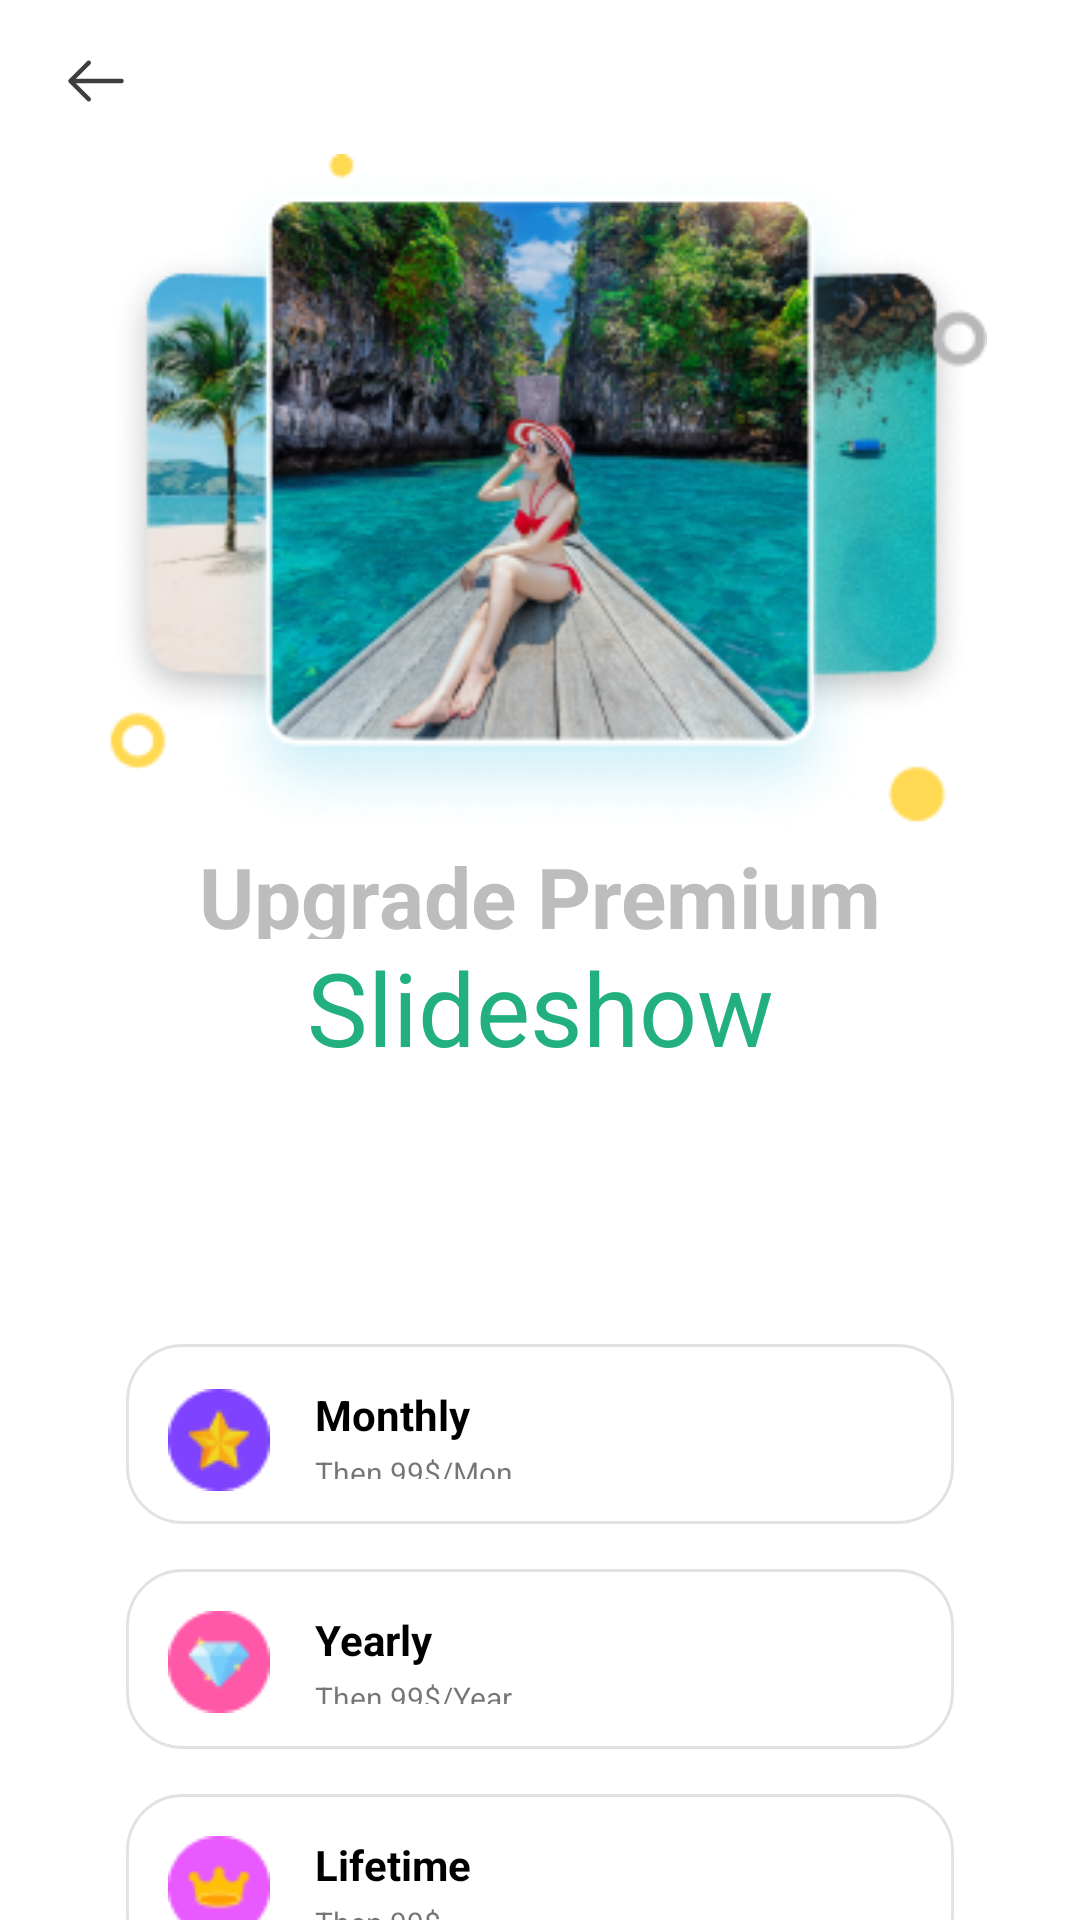

Where to tap for icons on this 1080px×1920px app screen, as (x,y):
return left: (96,81)
